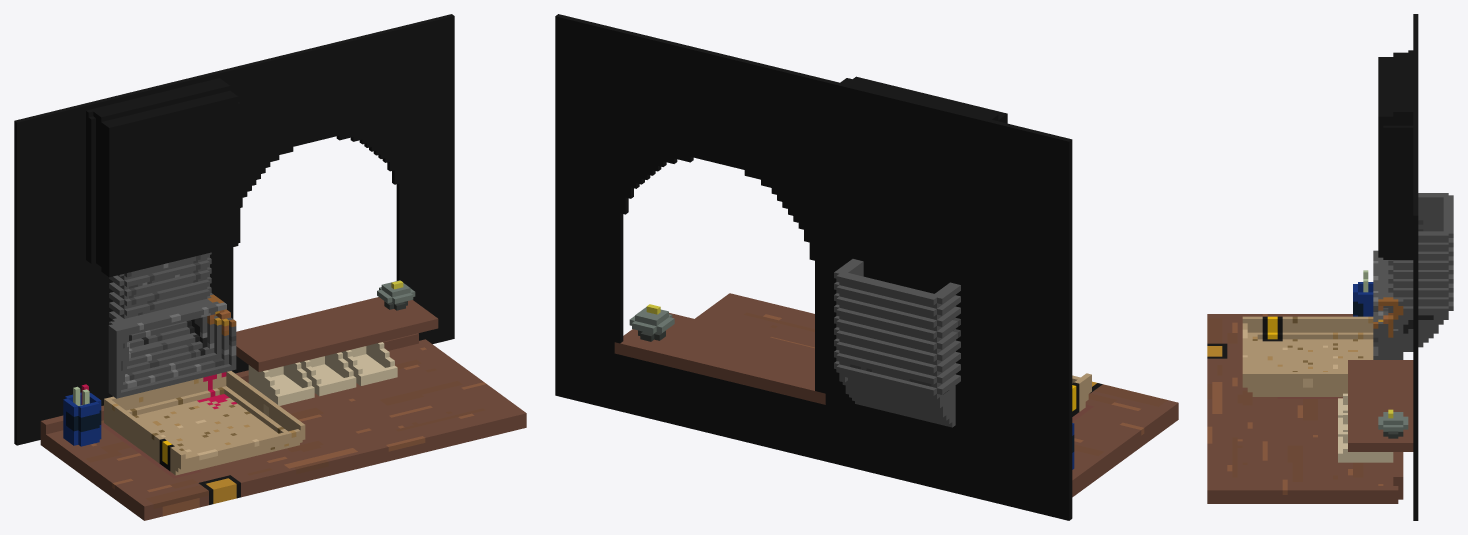
File: shop.glb
3 renders of one model, left to right at view 1: azimuth 30°, elevation 25°; view 2: azimuth 150°, elevation 25°; view 3: azimuth 270°, elevation 25°, orthographic. The views are drawn at different scales.
Parts seen in each view (by area): view 1: shop; view 2: shop; view 3: shop.
Boxes of the visible parts, left/top/right/bottom form: shop: left=14, top=14, right=526, bottom=520; shop: left=555, top=14, right=1178, bottom=520; shop: left=1207, top=14, right=1453, bottom=520.
Size of the model in its own units: 9.5 by 6.7 by 4.9.
1 material, 1 textured.
